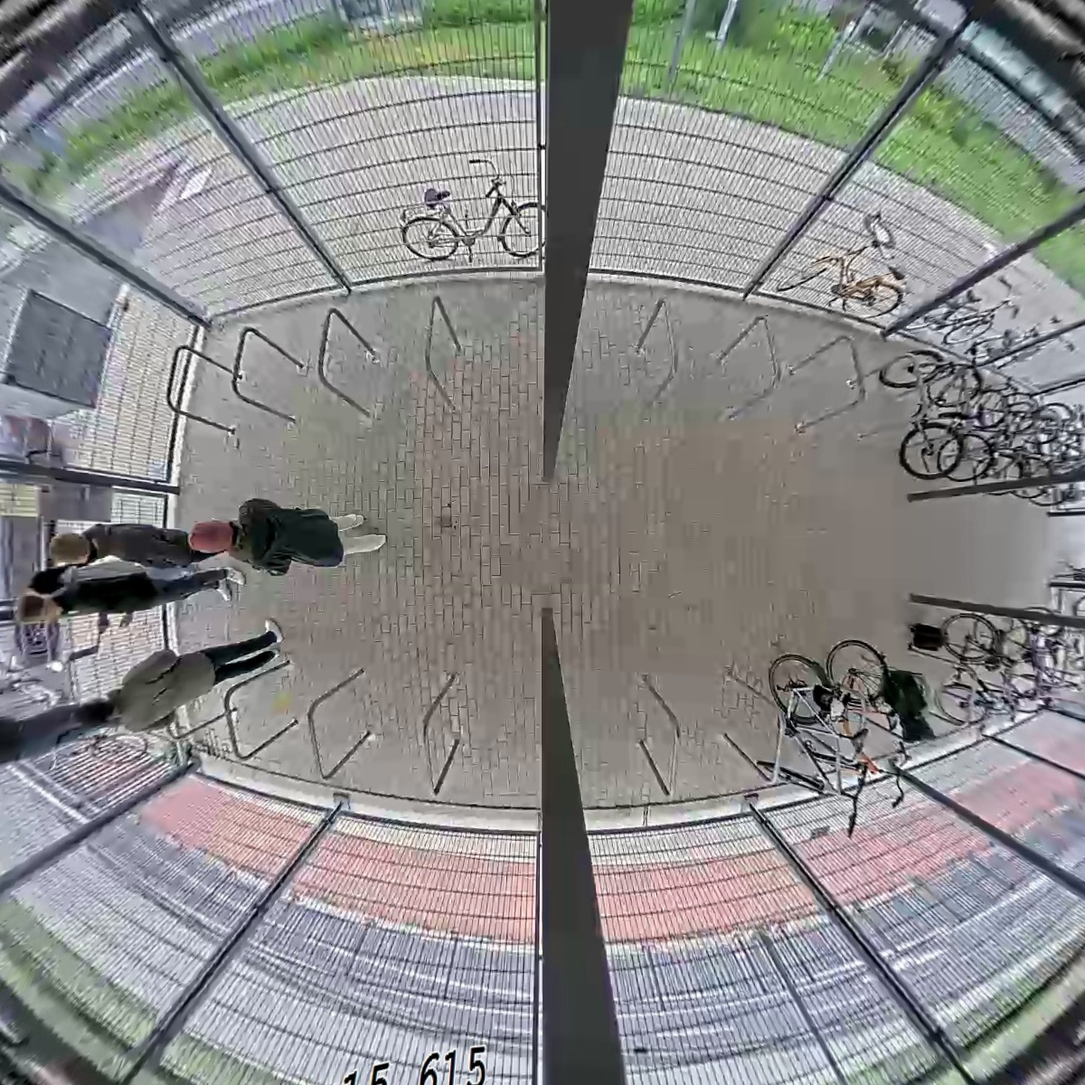bicylce: (752, 649, 873, 820), (801, 632, 907, 817), (877, 339, 990, 485), (925, 356, 1024, 489), (962, 372, 1041, 498), (930, 611, 1009, 735), (972, 605, 1047, 727)
saddle: (843, 725, 870, 755), (877, 709, 902, 739), (1023, 646, 1041, 673), (1048, 645, 1065, 669), (974, 399, 989, 426), (1071, 633, 1085, 657), (1000, 422, 1013, 441)
